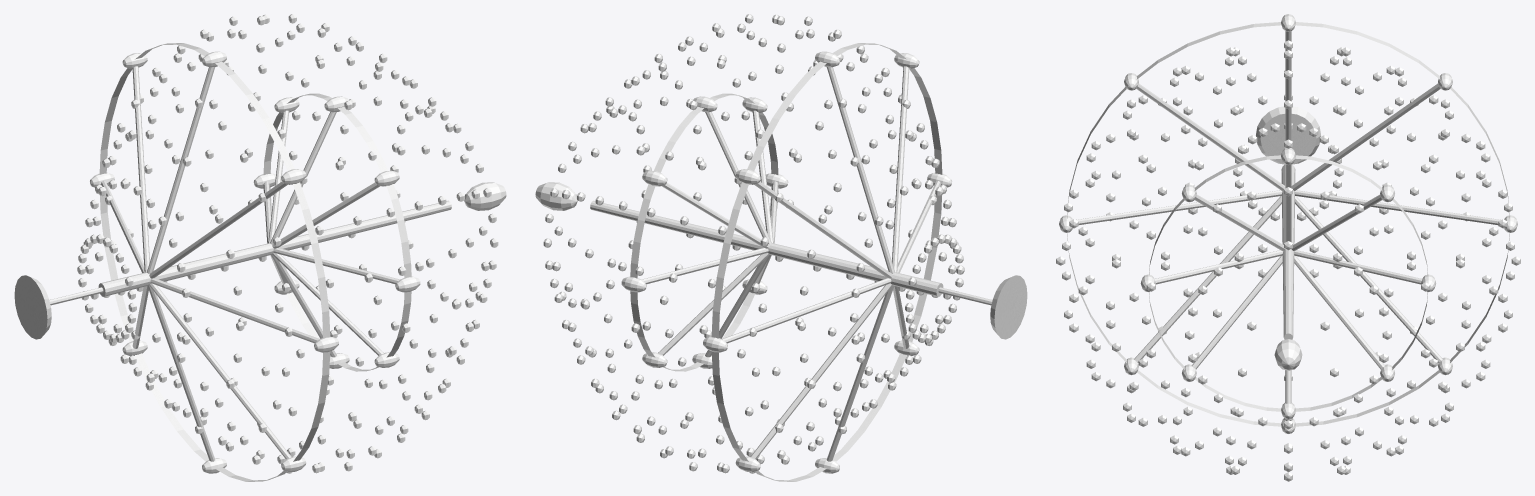
The model's file is grandempirechandelier.obj.
3 views of the same model, side by side, from view 1: azimuth 30°, elevation 25°; view 2: azimuth 150°, elevation 25°; view 3: azimuth 270°, elevation 25° (orthographic).
Visible parts, largest first — view 1: Metal, Glass, Base; view 2: Metal, Glass, Base; view 3: Metal, Glass, Base.
Part boxes in pixels (bbox=[...]): Metal: bbox=[49, 43, 451, 481]; Glass: bbox=[77, 14, 506, 473]; Base: bbox=[14, 275, 51, 339]; Metal: bbox=[590, 43, 992, 481]; Glass: bbox=[535, 14, 964, 473]; Base: bbox=[990, 275, 1027, 339]; Metal: bbox=[1067, 22, 1509, 426]; Glass: bbox=[1056, 40, 1520, 481]; Base: bbox=[1256, 106, 1320, 164].
Bounding box in the file's own units: 4.65 × 3.99 × 3.98.
